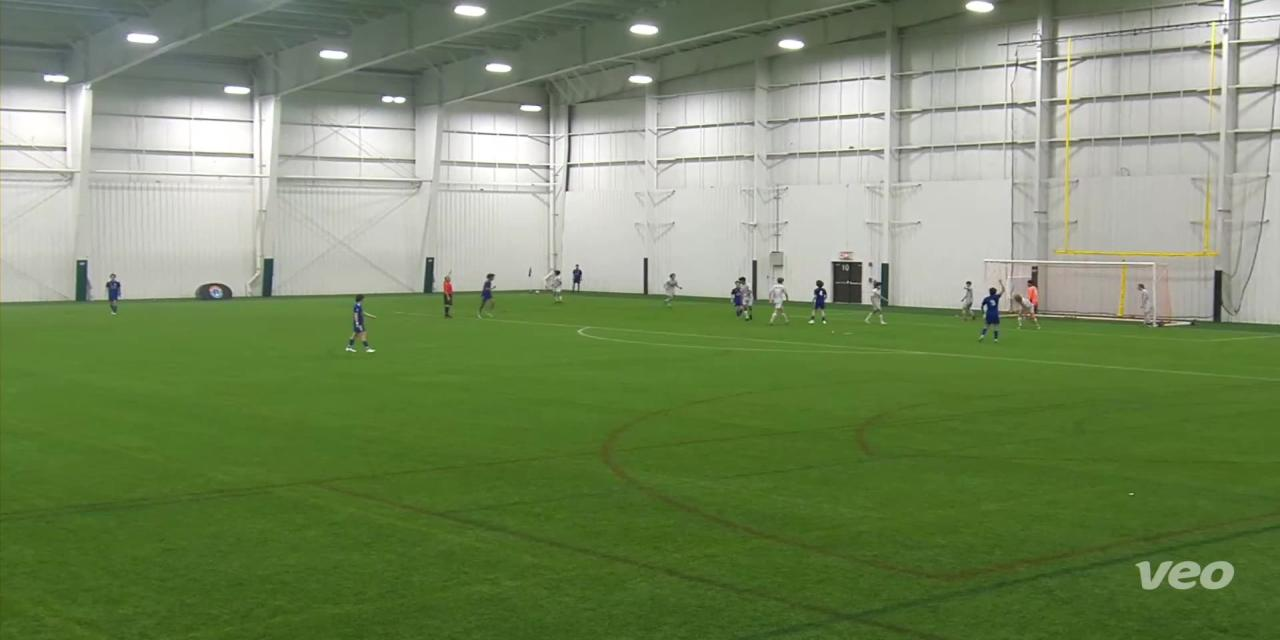goal: (974, 255, 1200, 329)
sports ball: (534, 286, 542, 297)
